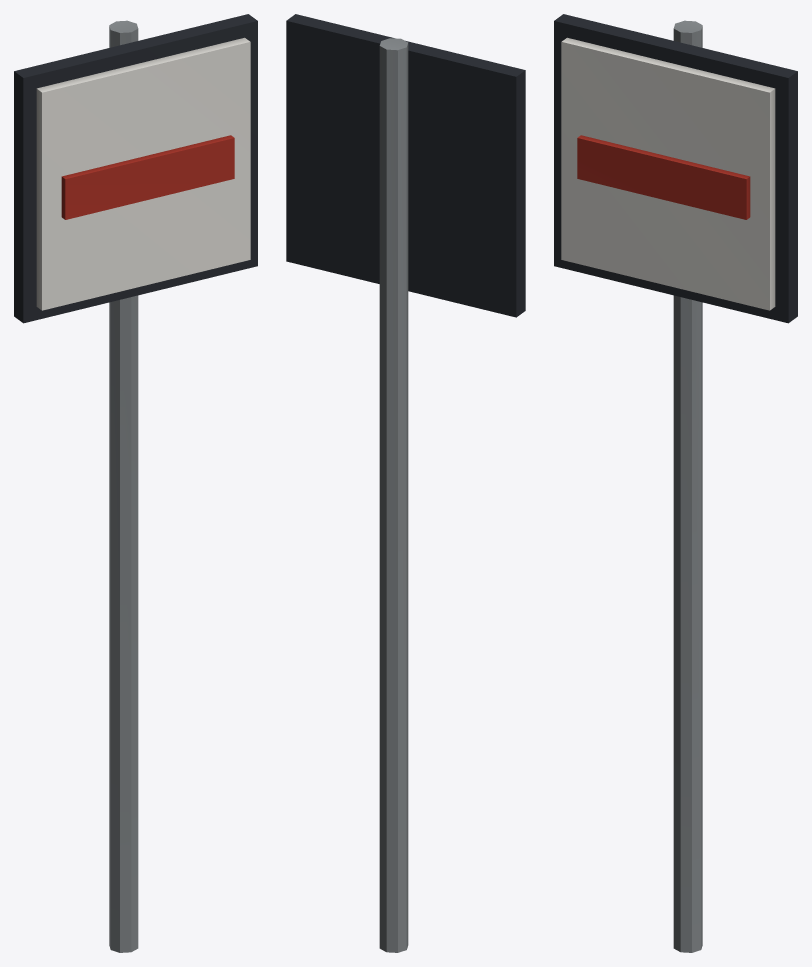
Rendered from senal-0-C3I3ed2k.glb.
The picture shows the model from 3 angles, left to right: view 1: azimuth 30°, elevation 25°; view 2: azimuth 150°, elevation 25°; view 3: azimuth 330°, elevation 25°; orthographic projection.
Visible parts, largest first — view 1: pieza.001, cilindro, pieza, pieza.002; view 2: pieza, cilindro; view 3: pieza.001, cilindro, pieza, pieza.002.
Part boxes in pixels (bbox=[...]): pieza.001: bbox=[36, 37, 250, 310]; cilindro: bbox=[109, 20, 138, 952]; pieza: bbox=[14, 14, 257, 323]; pieza.002: bbox=[61, 135, 234, 219]; pieza: bbox=[286, 14, 525, 317]; cilindro: bbox=[379, 38, 408, 952]; pieza.001: bbox=[561, 37, 775, 310]; cilindro: bbox=[673, 20, 702, 952]; pieza: bbox=[554, 14, 797, 323]; pieza.002: bbox=[577, 135, 750, 219].
Size of the model in its own units: 0.72 by 2.7 by 0.18.
